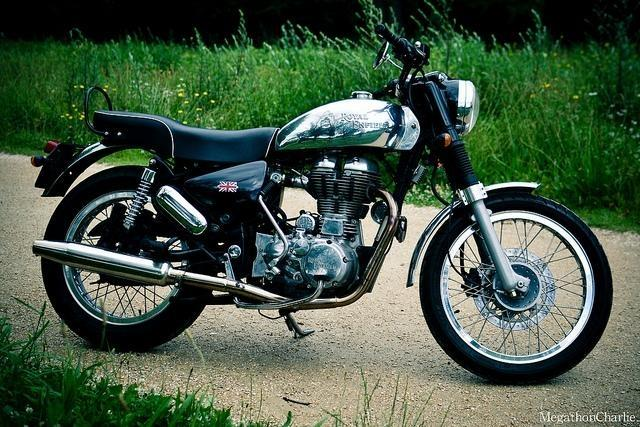motorcycle: (31, 17, 615, 381)
